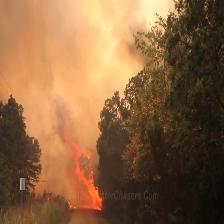fire: (60, 124, 114, 222)
